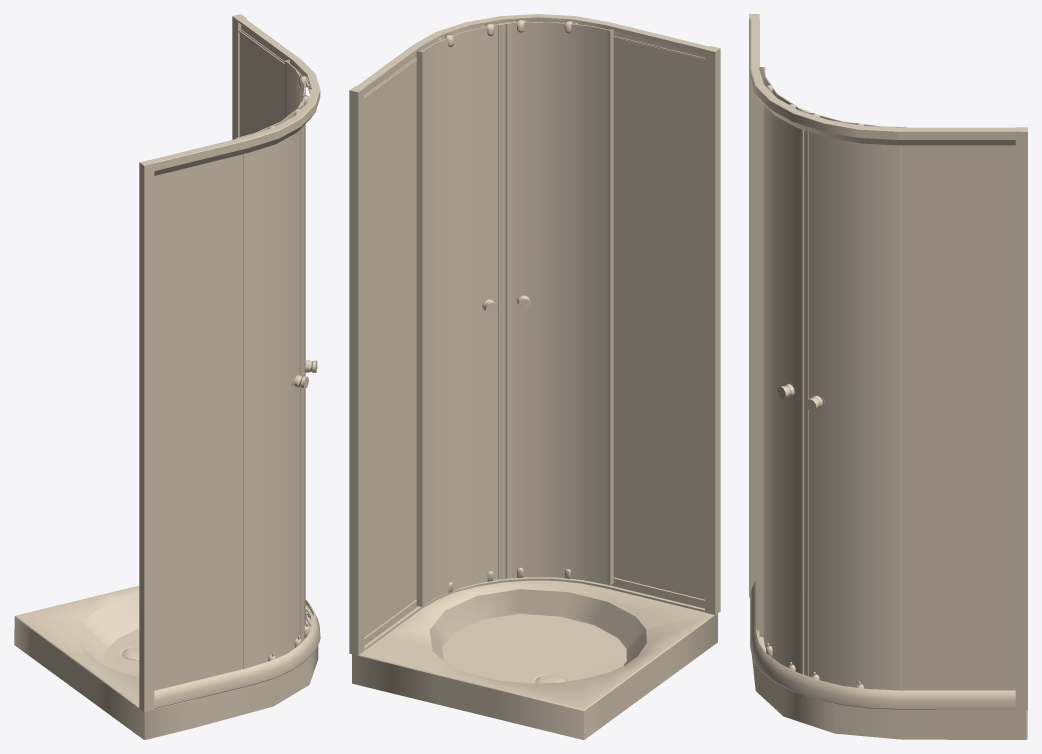
The model's file is round_shower_cabin_03_L_.fbx.
3 views of the same model, side by side, from view 1: azimuth 30°, elevation 25°; view 2: azimuth 150°, elevation 25°; view 3: azimuth 270°, elevation 25° (orthographic). The views are drawn at different scales.
Parts seen in each view (by area): view 1: round_shower_cabin_03_L.001, round_shower_cabin_03_L; view 2: round_shower_cabin_03_L.001, round_shower_cabin_03_L; view 3: round_shower_cabin_03_L.001, round_shower_cabin_03_L.
Boxes of the visible parts, x1,y1,x2,y2 form: round_shower_cabin_03_L.001: [154, 33, 305, 690]; round_shower_cabin_03_L: [14, 14, 320, 739]; round_shower_cabin_03_L.001: [364, 22, 704, 637]; round_shower_cabin_03_L: [349, 14, 720, 739]; round_shower_cabin_03_L.001: [756, 68, 1015, 690]; round_shower_cabin_03_L: [749, 14, 1027, 739].
Size of the model in its own units: 18.51 by 44.58 by 18.51.
